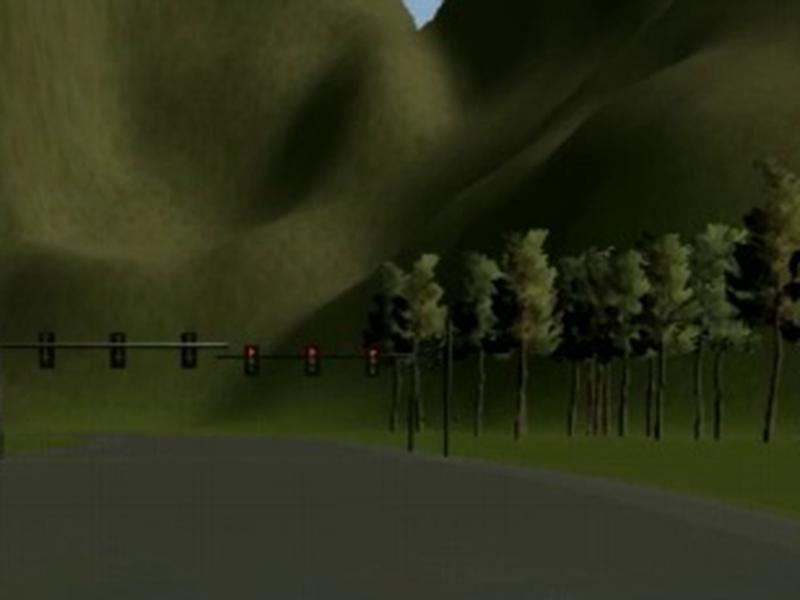Red: (366, 346, 380, 378), (306, 345, 320, 377), (245, 343, 258, 376)
